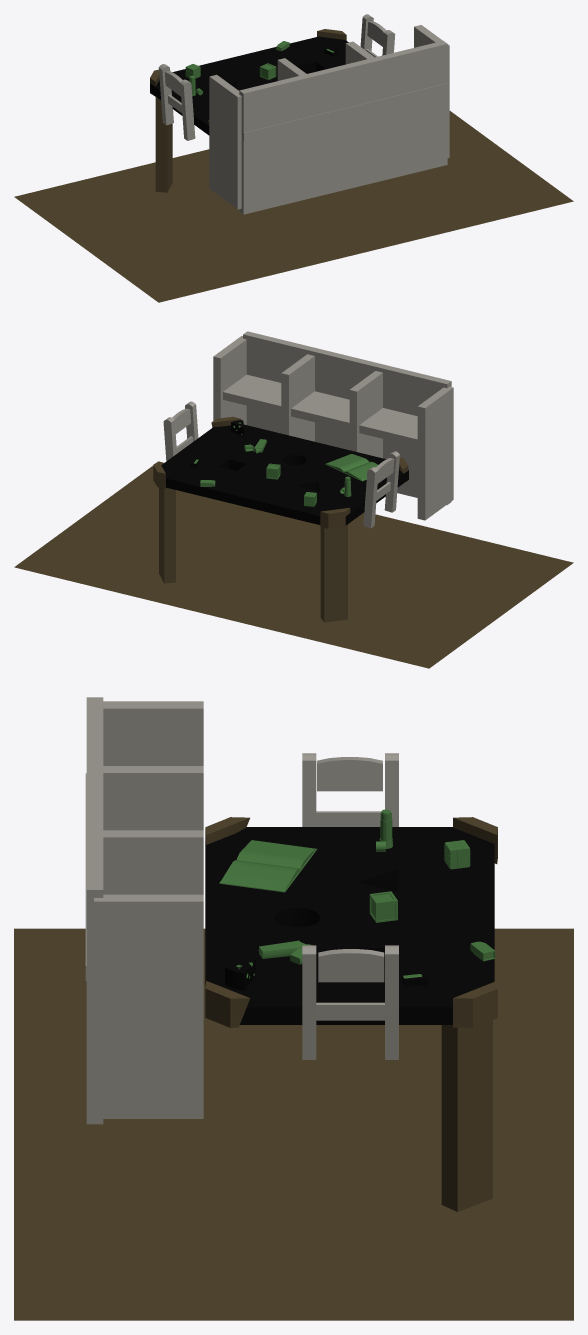
The model's file is SM_Level_WithProps.fbx.
3 views of the same model, one above another, from view 1: azimuth 30°, elevation 25°; view 2: azimuth 150°, elevation 25°; view 3: azimuth 270°, elevation 25° (orthographic). The views are drawn at different scales.
Visible parts, largest first — view 1: SM_Bg_Props, SM_Table, SM_Props; view 2: SM_Bg_Props, SM_Table, SM_Props; view 3: SM_Bg_Props, SM_Table, SM_Props.
Part boxes in pixels (bbox=[...]): SM_Bg_Props: bbox=[14, 14, 573, 302]; SM_Table: bbox=[150, 29, 348, 192]; SM_Props: bbox=[185, 41, 337, 95]; SM_Bg_Props: bbox=[14, 331, 573, 668]; SM_Table: bbox=[153, 416, 408, 622]; SM_Props: bbox=[189, 420, 377, 506]; SM_Bg_Props: bbox=[14, 697, 573, 1320]; SM_Table: bbox=[205, 817, 497, 1211]; SM_Props: bbox=[219, 809, 495, 990].
Size of the model in its own units: 1741 by 1051 by 681.
